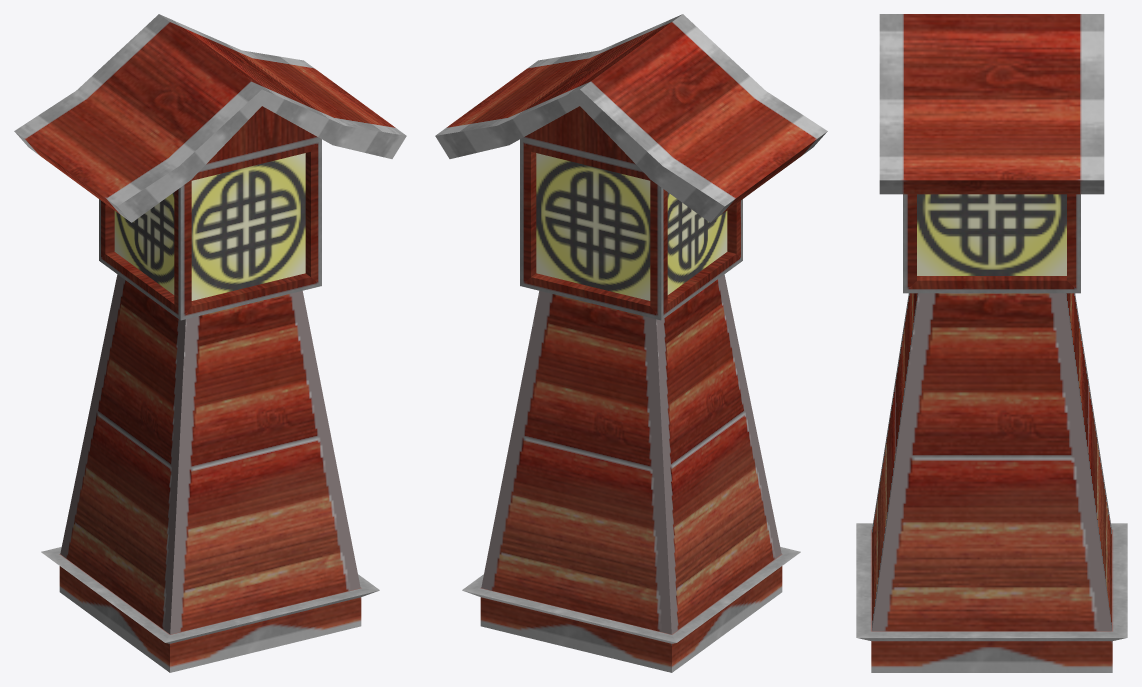
The model's file is Shrine_Art.glb.
3 renders of one model, left to right at view 1: azimuth 30°, elevation 25°; view 2: azimuth 150°, elevation 25°; view 3: azimuth 270°, elevation 25°, orthographic. The views are drawn at different scales.
Parts seen in each view (by area): view 1: Shrine_Art; view 2: Shrine_Art; view 3: Shrine_Art.
Boxes of the visible parts, x1=… form: Shrine_Art: x1=14, y1=14, x2=406, y2=672; Shrine_Art: x1=435, y1=14, x2=827, y2=672; Shrine_Art: x1=856, y1=14, x2=1127, y2=672.
Bounding box in the file's own units: 1.94 × 3.56 × 1.44.
Materials: 1 (1 with a texture image).
